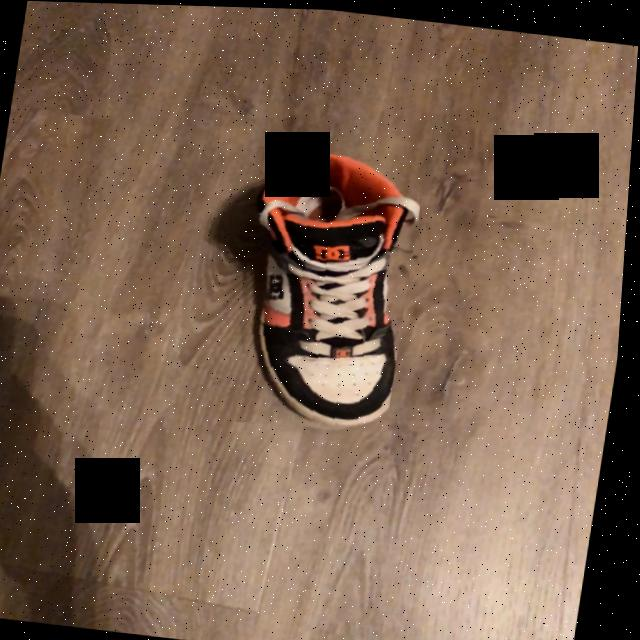shoe: (250, 150, 422, 428)
